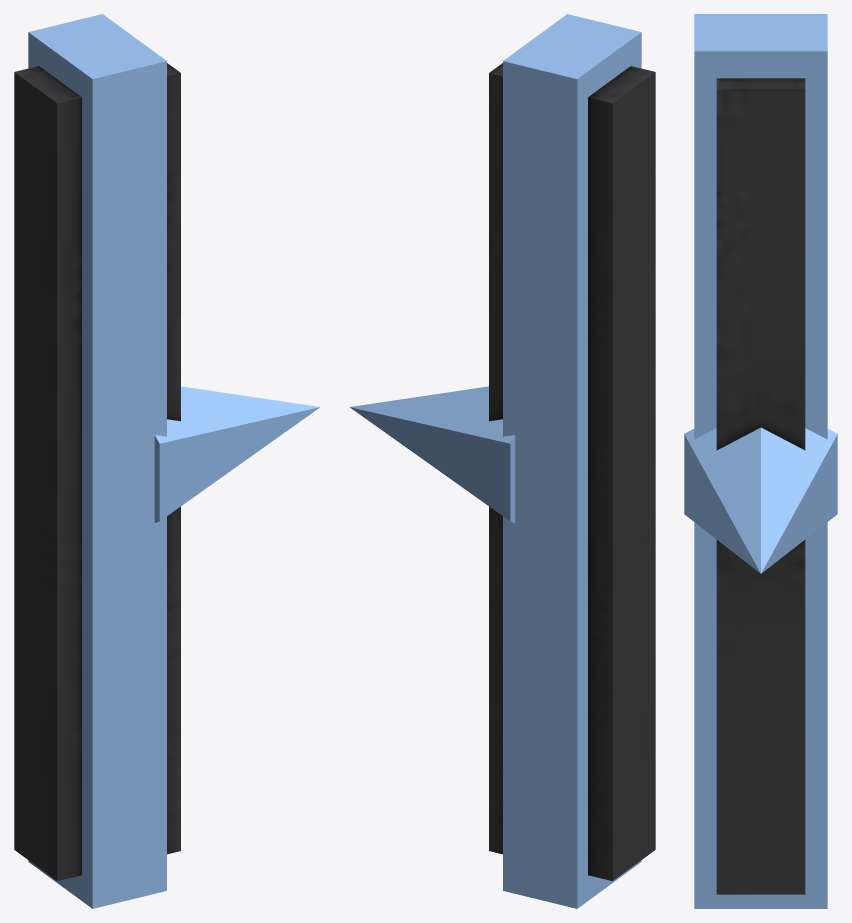
Rendered from bolt.glb.
3 renders of one model, left to right at view 1: azimuth 30°, elevation 25°; view 2: azimuth 150°, elevation 25°; view 3: azimuth 270°, elevation 25°, orthographic. The views are drawn at different scales.
Parts seen in each view (by area): view 1: glow, core, tip; view 2: glow, core, tip; view 3: core, glow, tip.
Part boxes in pixels (x1,y1,x2,y2): glow: [28, 14, 166, 908]; core: [14, 63, 180, 881]; tip: [154, 386, 320, 522]; glow: [503, 14, 641, 908]; core: [489, 63, 655, 881]; tip: [349, 386, 515, 522]; core: [716, 78, 805, 894]; glow: [694, 14, 827, 908]; tip: [684, 427, 837, 573].
Bounding box in the file's own units: 0.115 × 0.32 × 0.052.
2 materials, 1 textured.
